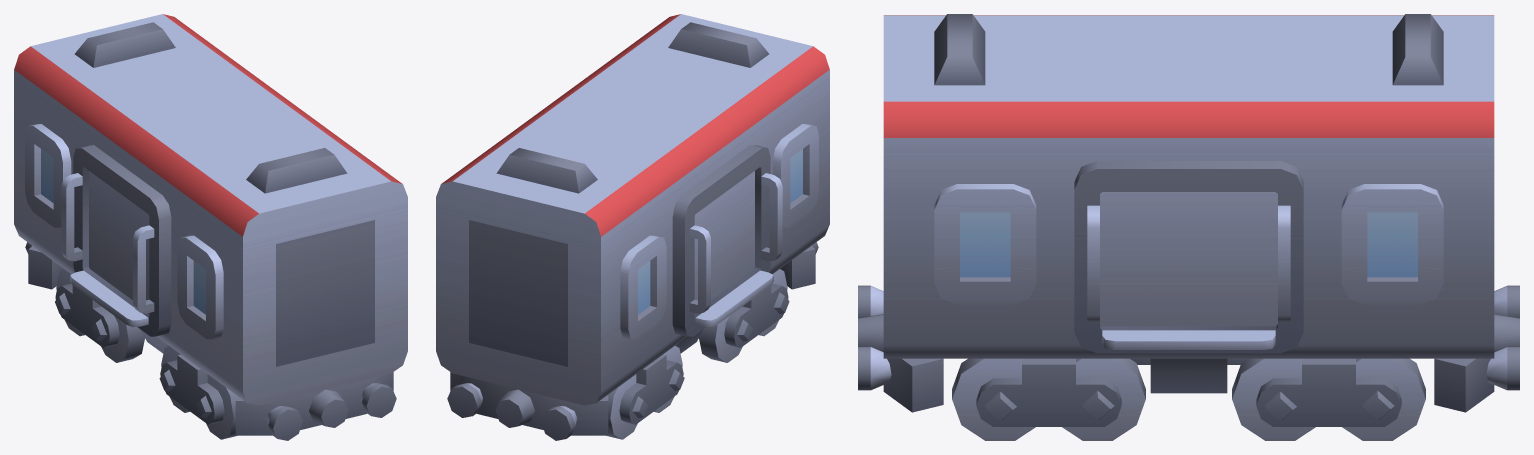
File: kenney-train-train-electric-subway-c.glb
3 renders of one model, left to right at view 1: azimuth 30°, elevation 25°; view 2: azimuth 150°, elevation 25°; view 3: azimuth 270°, elevation 25°, orthographic. The views are drawn at different scales.
Visible parts, largest first — view 1: train-electric-subway-c, wheels-front, wheels-back; view 2: train-electric-subway-c, wheels-back, wheels-front; view 3: train-electric-subway-c, wheels-front, wheels-back.
Boxes of the visible parts, x1,y1,x2,y2 form: train-electric-subway-c: (14,14,407,440); wheels-front: (159,346,237,439); wheels-back: (55,269,144,362); train-electric-subway-c: (436,14,829,440); wheels-back: (606,346,684,439); wheels-front: (699,269,789,362); train-electric-subway-c: (858,14,1519,412); wheels-front: (952,358,1145,440); wheels-back: (1232,358,1425,440).
Size of the model in its own units: 1.35 by 1.57 by 2.6.
1 material, 1 textured.
